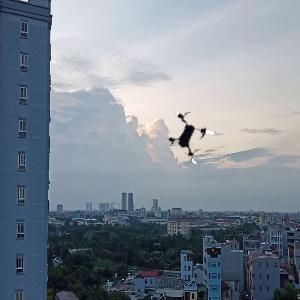drone: (164, 109, 223, 168)
